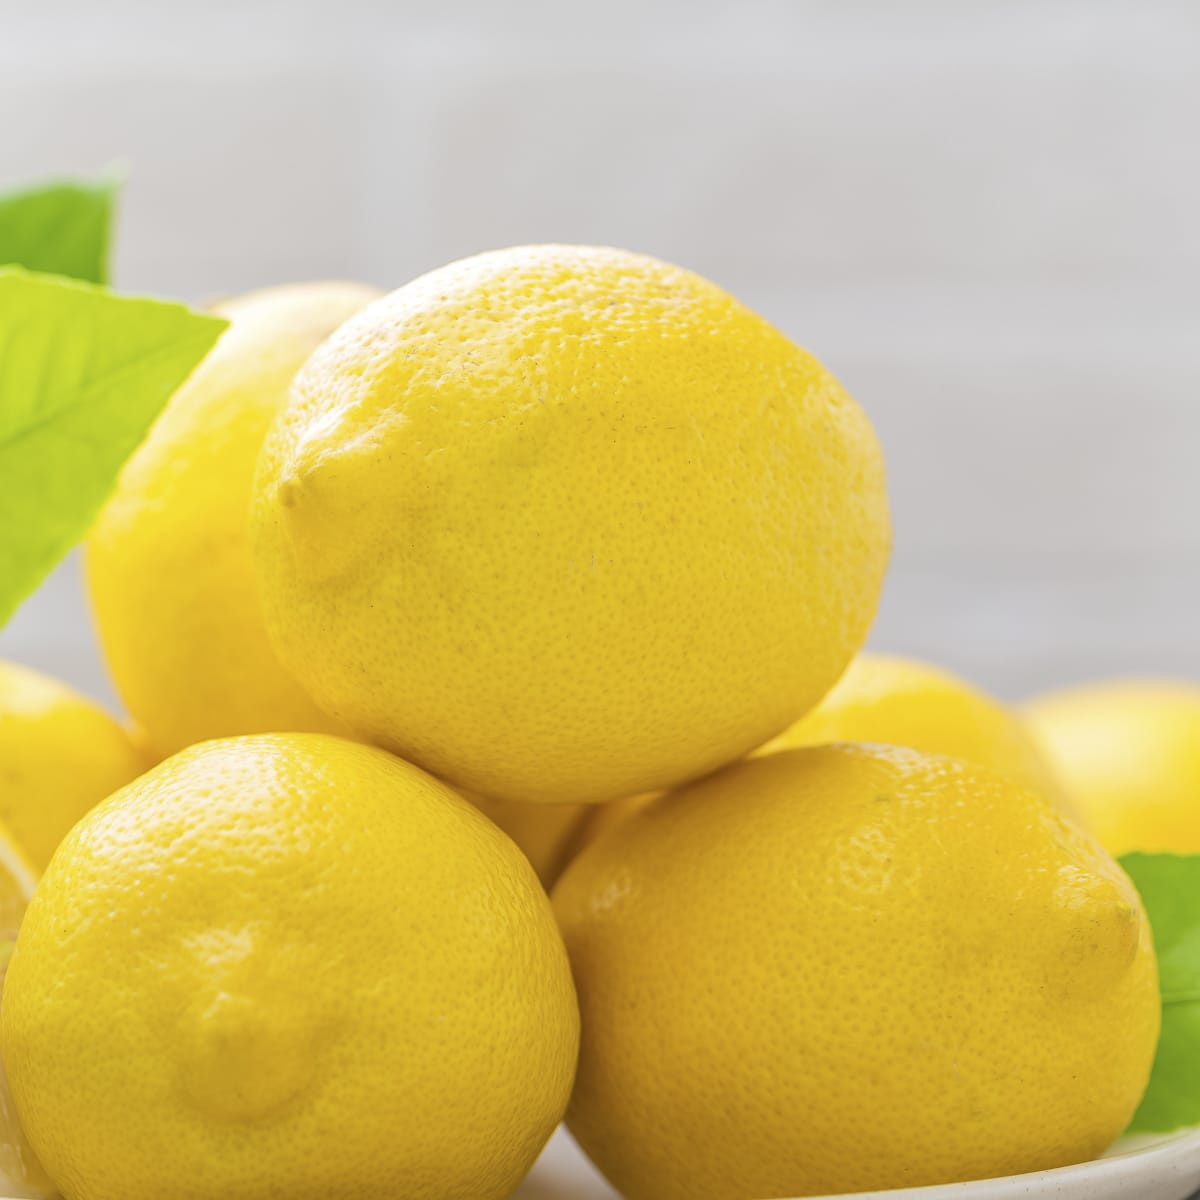lemon: (255, 244, 892, 800)
